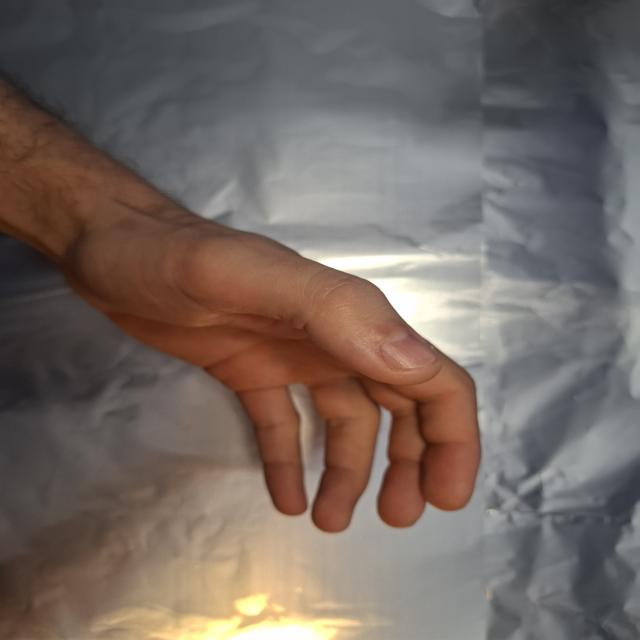glove_off: (54, 188, 486, 536)
